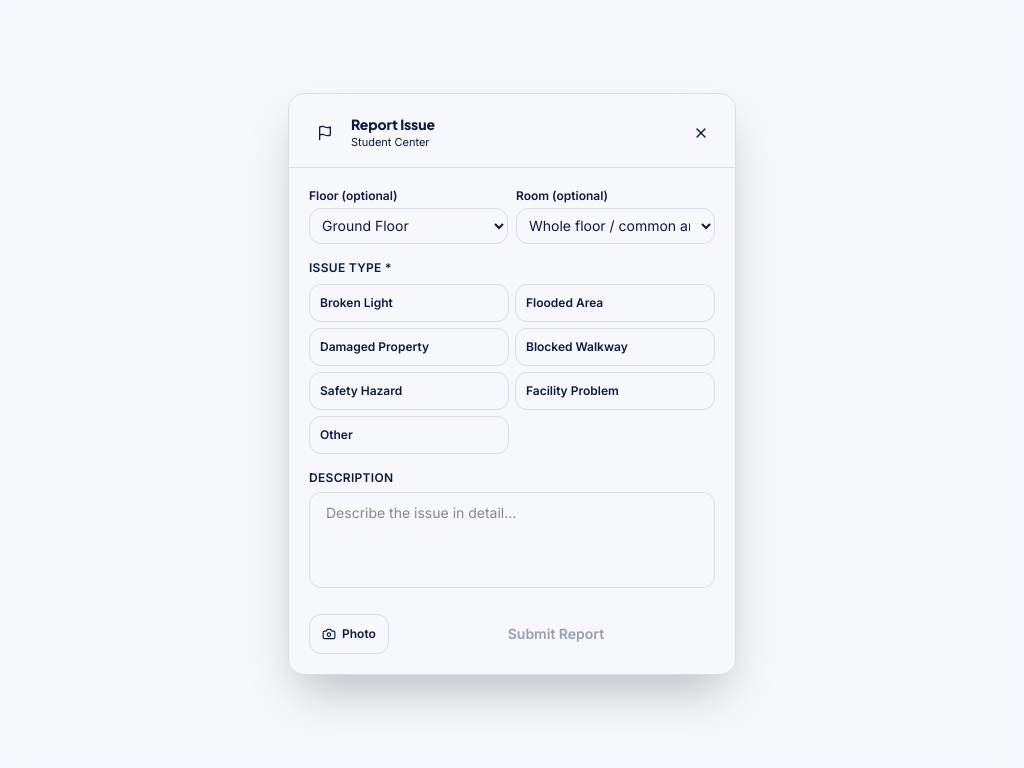
it: student building and room reporting › submits the selected room with its building and floor
Select "Ground Floor" in the dropdown labelled "Floor (optional)": (408, 226) [309,208,508,244]
Select "Copy Shop" in the dropdown labelled "Room (optional)": (616, 226) [516,208,715,244]
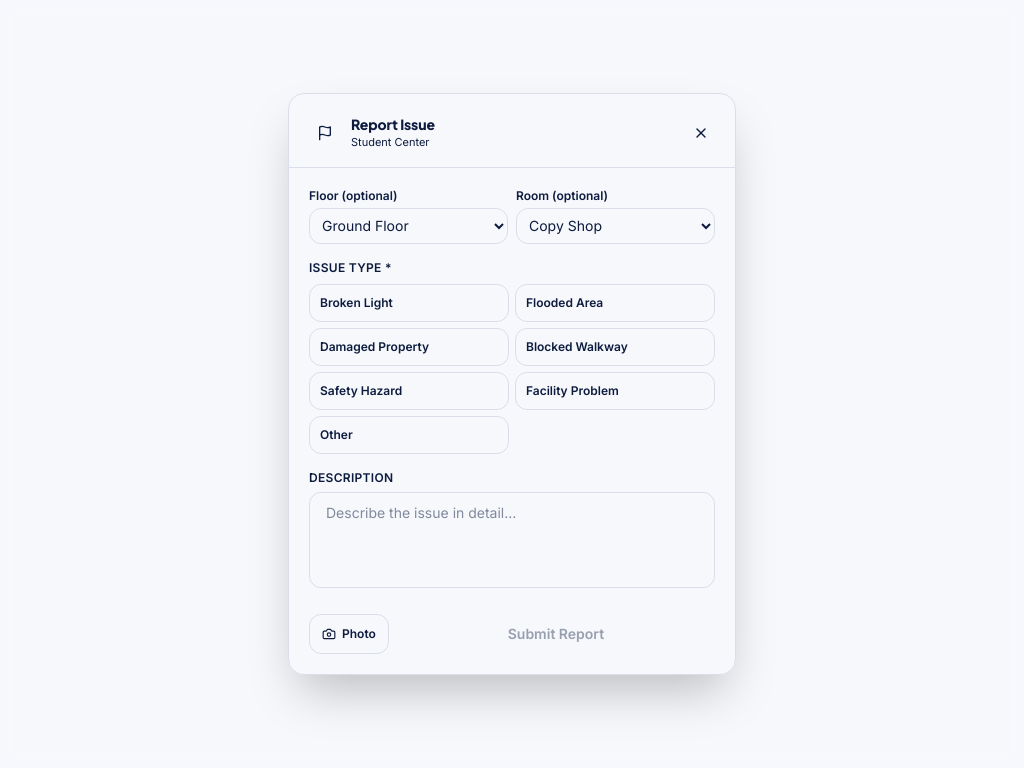
Click the radio button labelled "Broken Light": click(409, 303) [309,284,509,322]
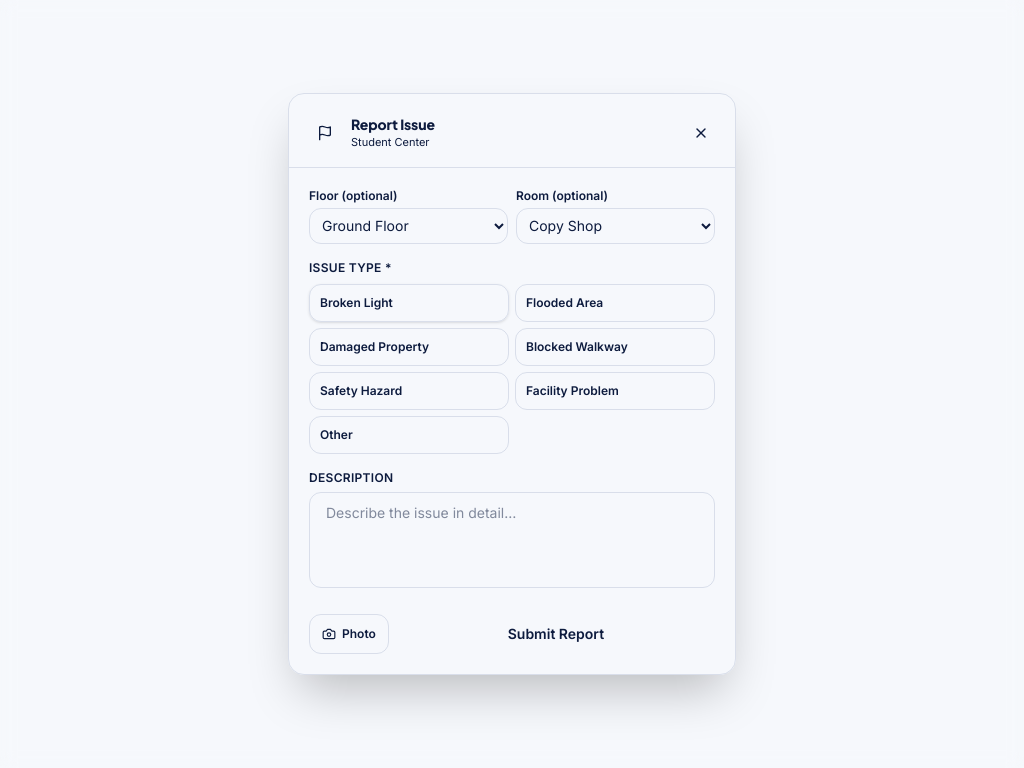
Click the button "Submit Report": click(556, 634) [397,614,715,654]
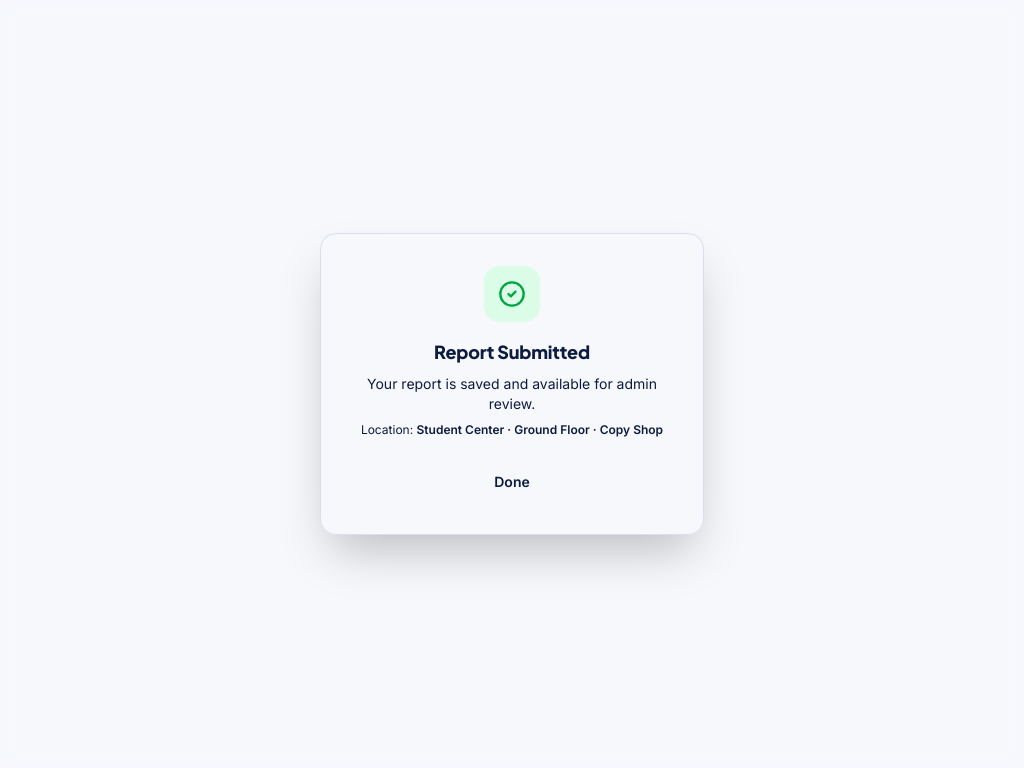
Now the dialog "Report Submitted" is shown, box [320,233,704,535]
Now the text "Student Center · Ground Floor · Copy Shop" is shown, box [416,422,663,437]
